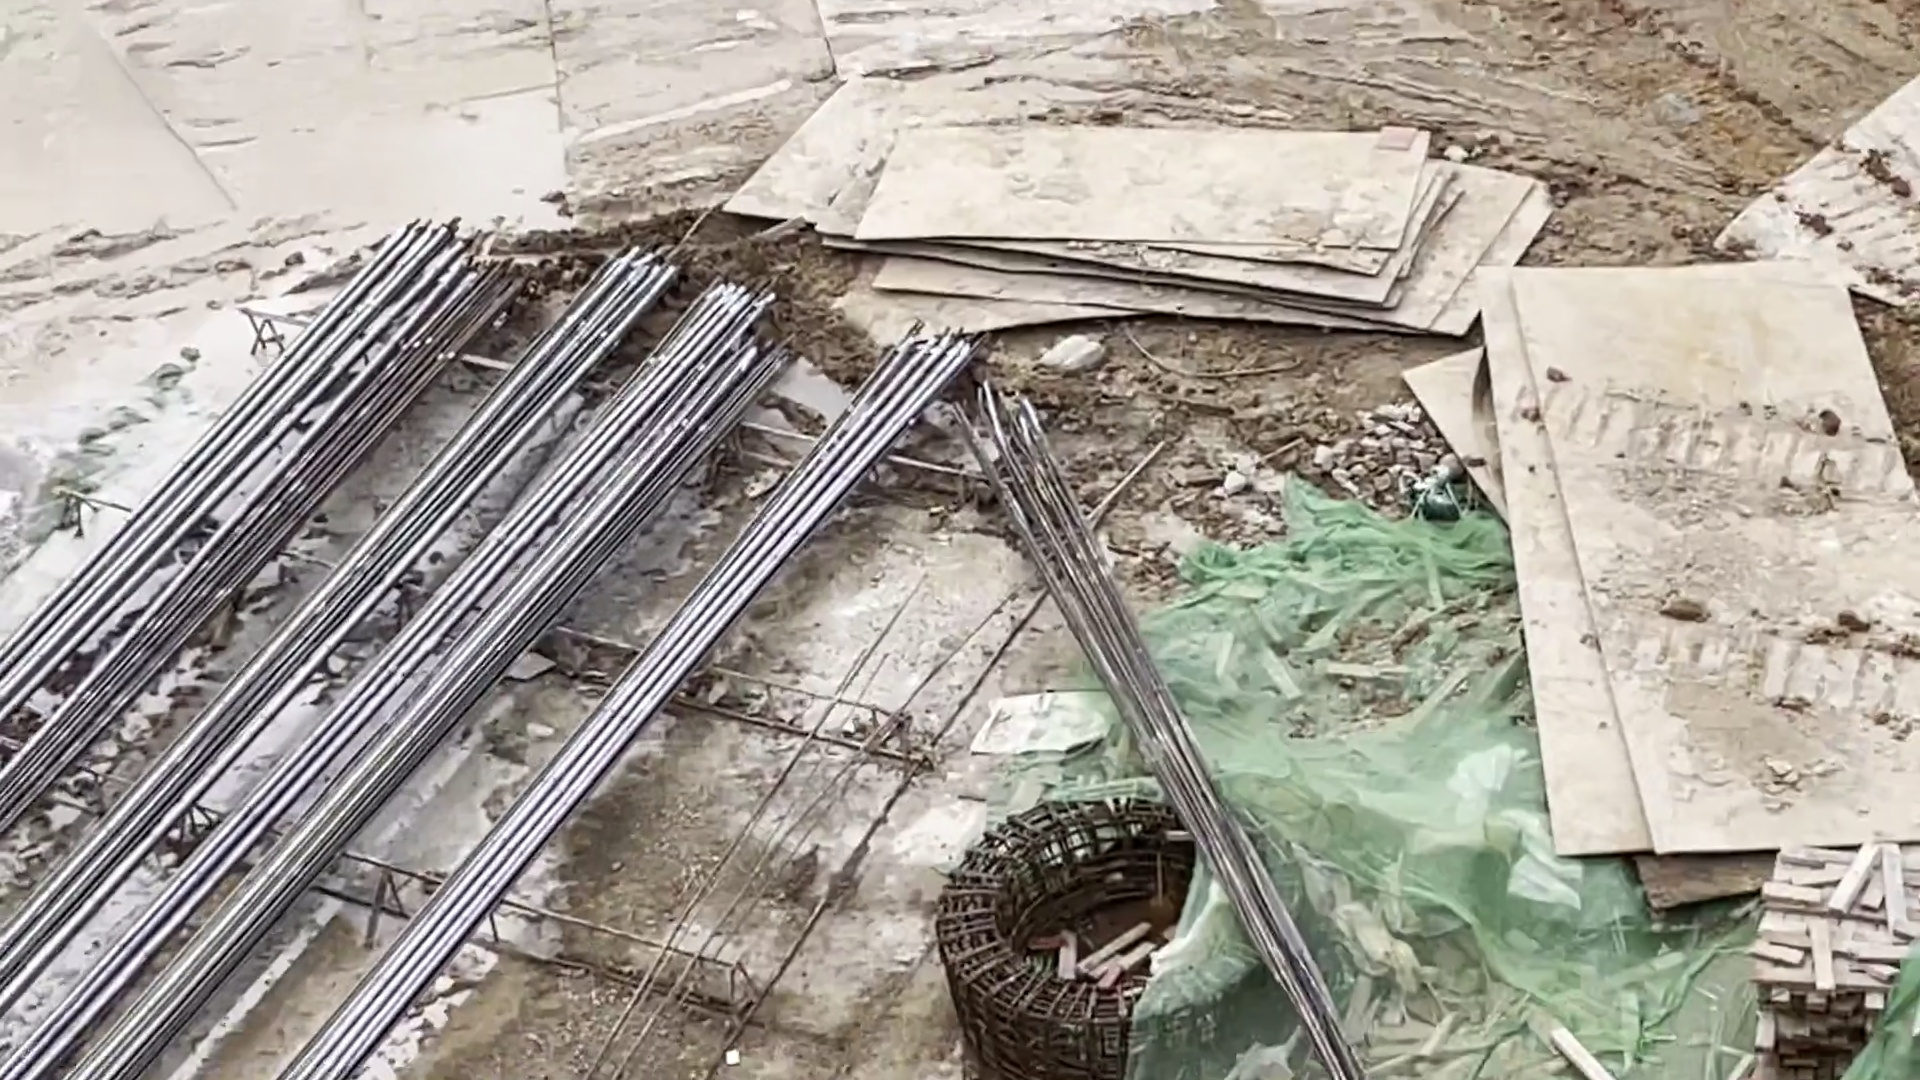rebar: (1, 214, 963, 1080), (965, 382, 1357, 1080)
wood: (1756, 828, 1917, 1029)
